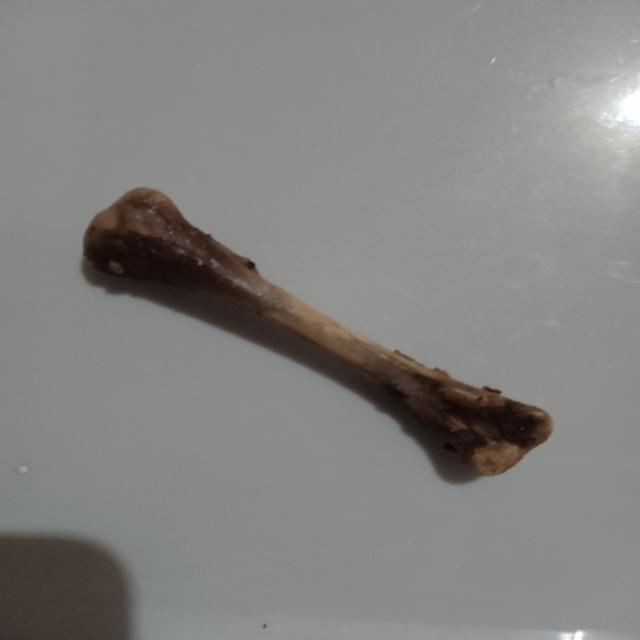bone: (68, 179, 561, 486)
